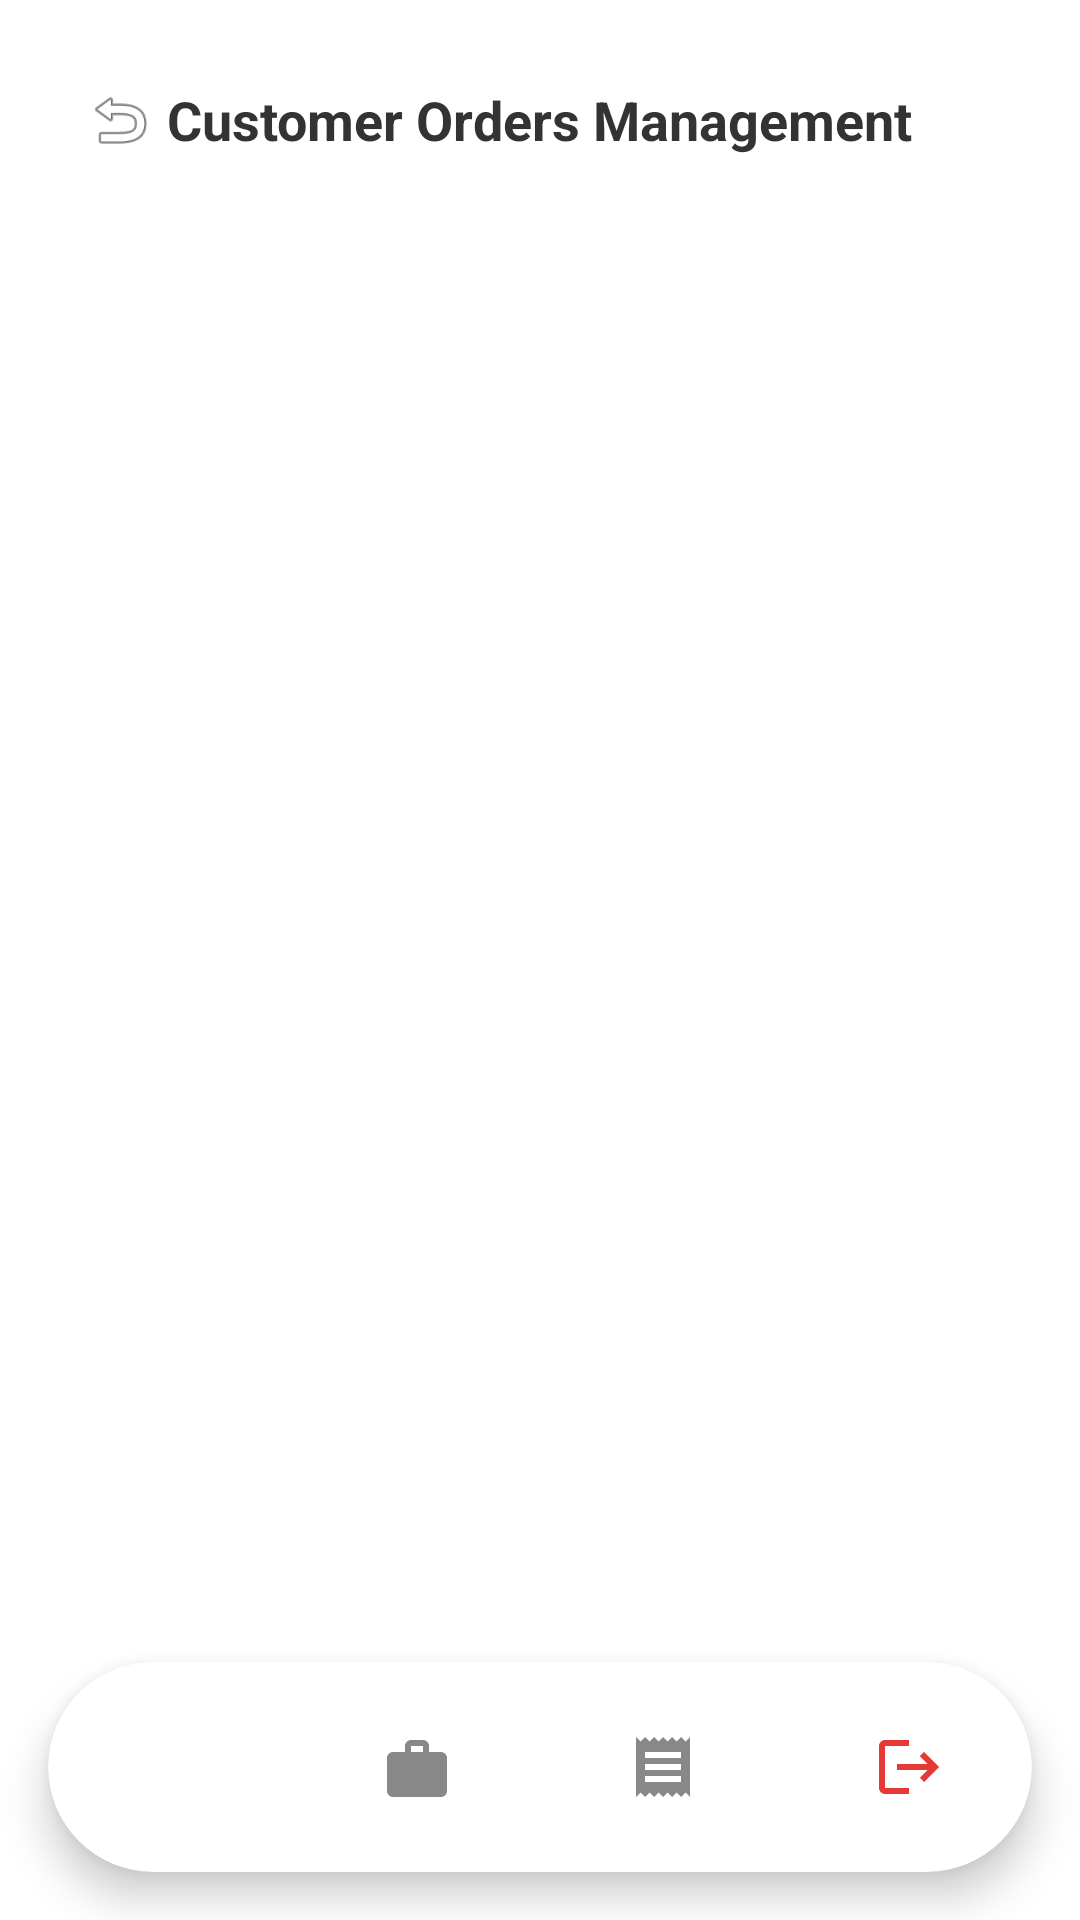

Icon bounding boxes for this 1080*1920 phone screenshot, format (x1, y1, x2, y2):
Admin Orders: (636, 1737, 690, 1797)
Admin Products: (387, 1740, 447, 1797)
Back: (95, 97, 147, 144)
